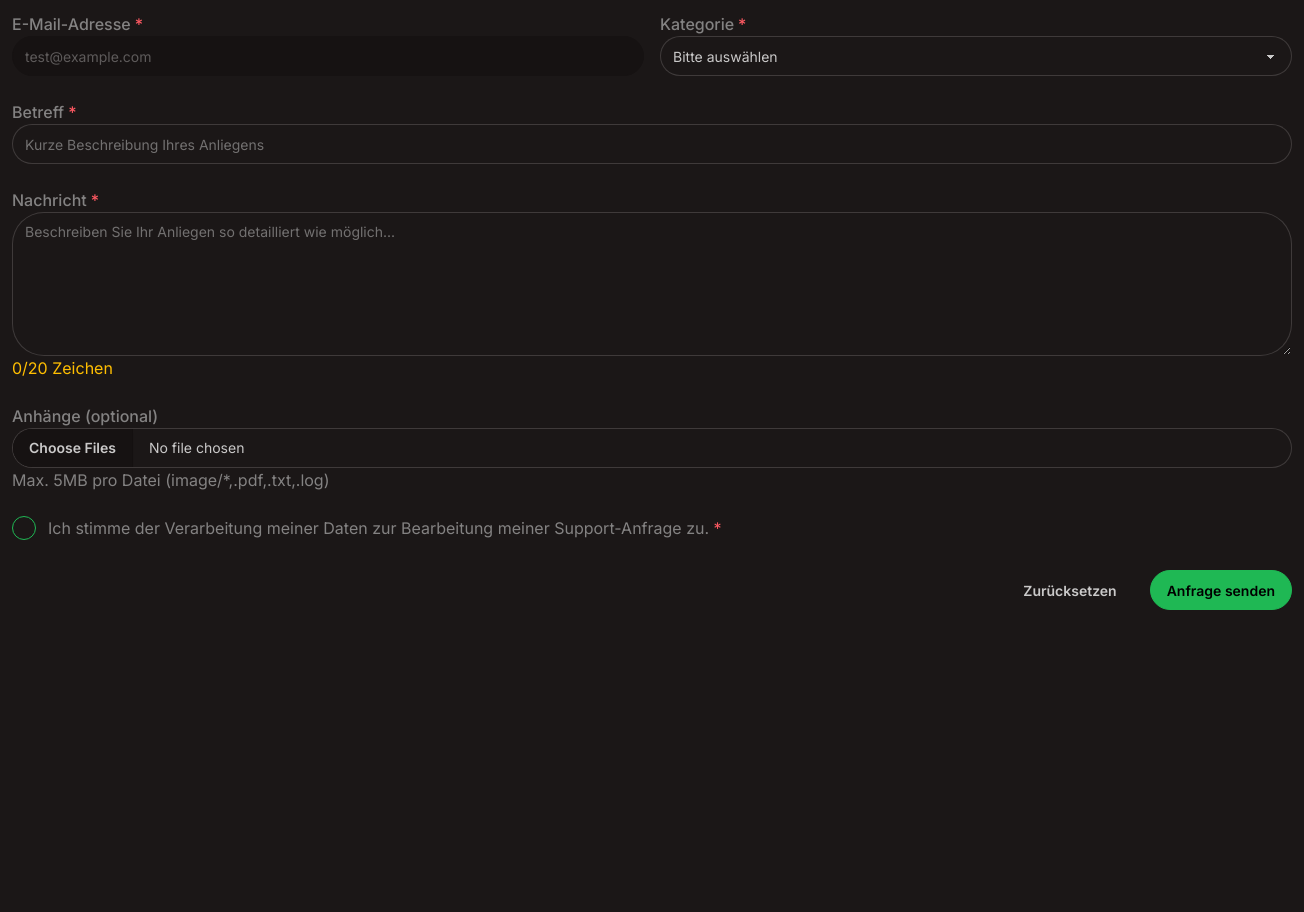
Test: SupportForm Integration Tests › zeigt Validierungsfehler bei leerem Formular
What coordinates should you click on to do the following:
click the button "Anfrage senden"
I would click on:
 (1221, 590)
Its box is [1150,570,1292,610].
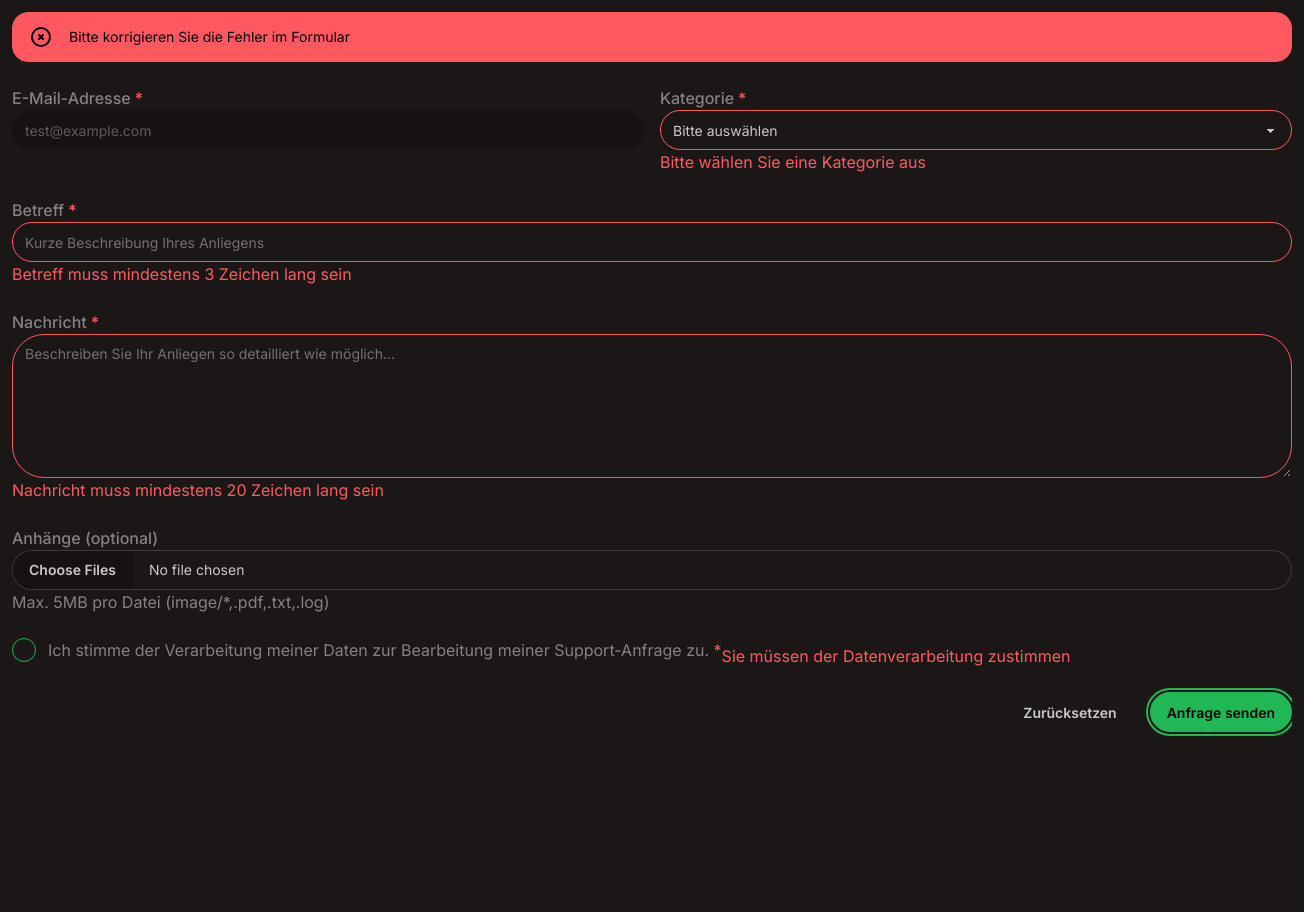
Check: the text "Bitte wählen Sie eine Kategorie aus" is shown, box [660,150,926,174]
Check: the text "Betreff muss mindestens 3 Zeichen lang sein" is shown, box [12,262,352,286]
Check: the text "Nachricht muss mindestens 20 Zeichen lang sein" is shown, box [12,478,384,502]
